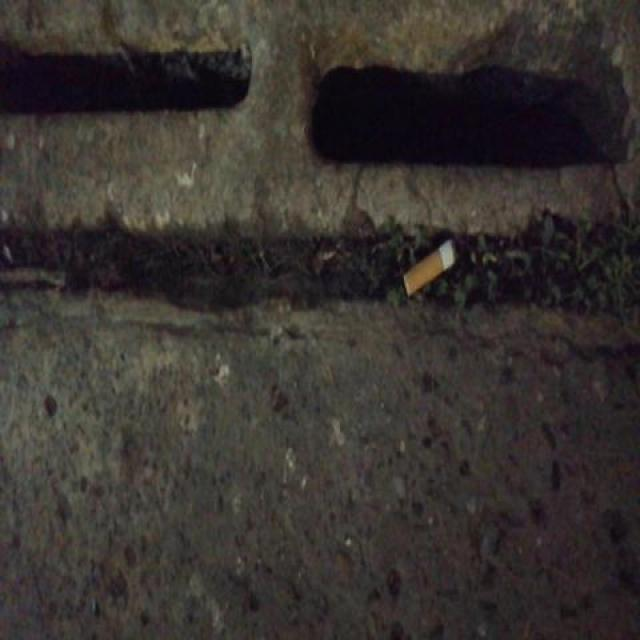non-organic waste: (398, 234, 463, 306)
